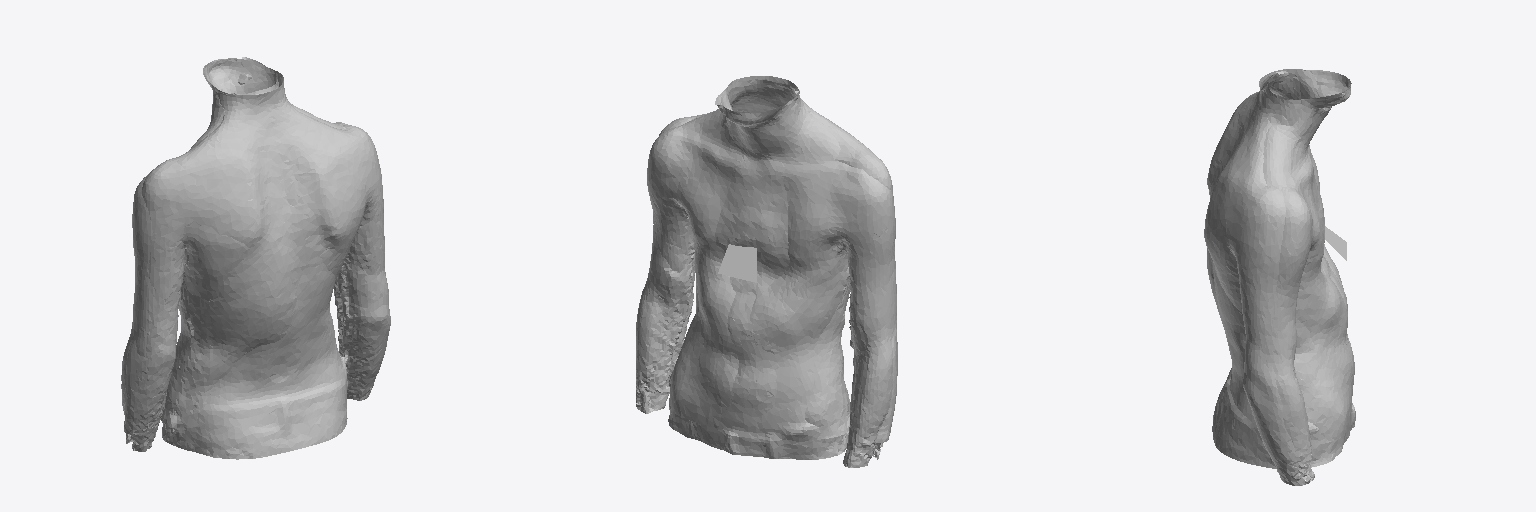
Rendered from manuallyAdjustedOBJ.obj.
3 views of the same model, side by side, from view 1: azimuth 30°, elevation 25°; view 2: azimuth 150°, elevation 25°; view 3: azimuth 270°, elevation 25° (orthographic).
Parts seen in each view (by area): view 1: ModifiedAfter_pt1_excavatum_post_op, ModifiedBefore_pt1_before_-_excavatum_; view 2: ModifiedBefore_pt1_before_-_excavatum_, ModifiedAfter_pt1_excavatum_post_op, Triangle_Cube; view 3: ModifiedBefore_pt1_before_-_excavatum_, ModifiedAfter_pt1_excavatum_post_op.
Boxes of the visible parts, box(x1,y1,x2,y2) form: ModifiedAfter_pt1_excavatum_post_op: box(124, 58, 384, 434); ModifiedBefore_pt1_before_-_excavatum_: box(121, 57, 390, 459); ModifiedBefore_pt1_before_-_excavatum_: box(636, 80, 897, 467); ModifiedAfter_pt1_excavatum_post_op: box(636, 76, 897, 442); Triangle_Cube: box(718, 244, 756, 282); ModifiedBefore_pt1_before_-_excavatum_: box(1212, 70, 1355, 485); ModifiedAfter_pt1_excavatum_post_op: box(1204, 69, 1354, 465).
Size of the model in its own units: 0.4953 by 0.6319 by 0.2534.